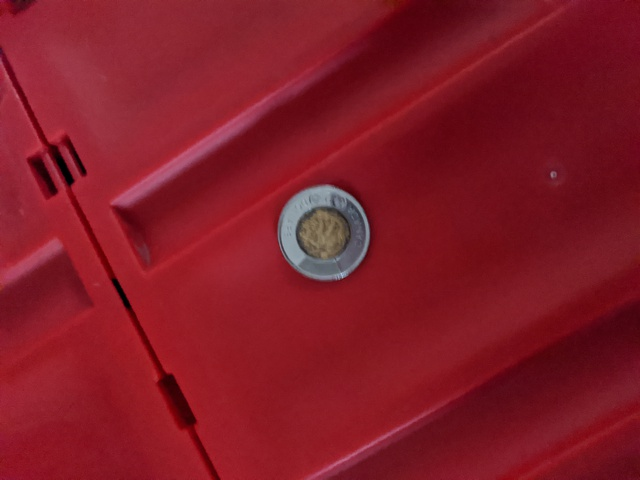twonie: (274, 175, 382, 297)
